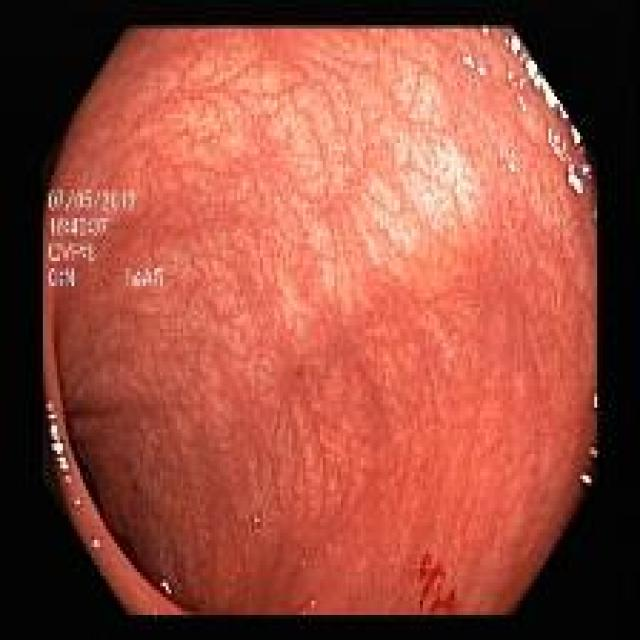ulcerative-colitis: (44, 28, 598, 615)
